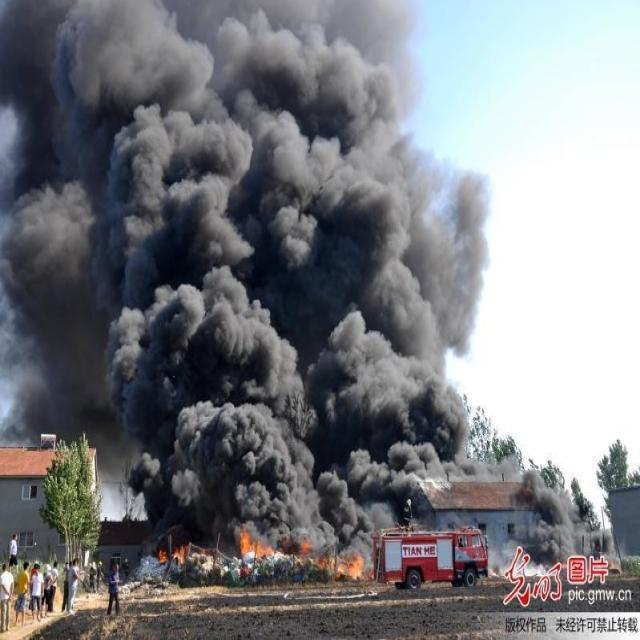Fire: (318, 550, 364, 582), (238, 526, 274, 560), (157, 544, 187, 564)
Smoke: (0, 1, 626, 537)
